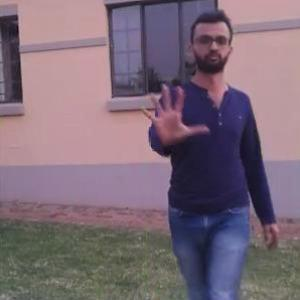follow_hand: (137, 77, 212, 147)
